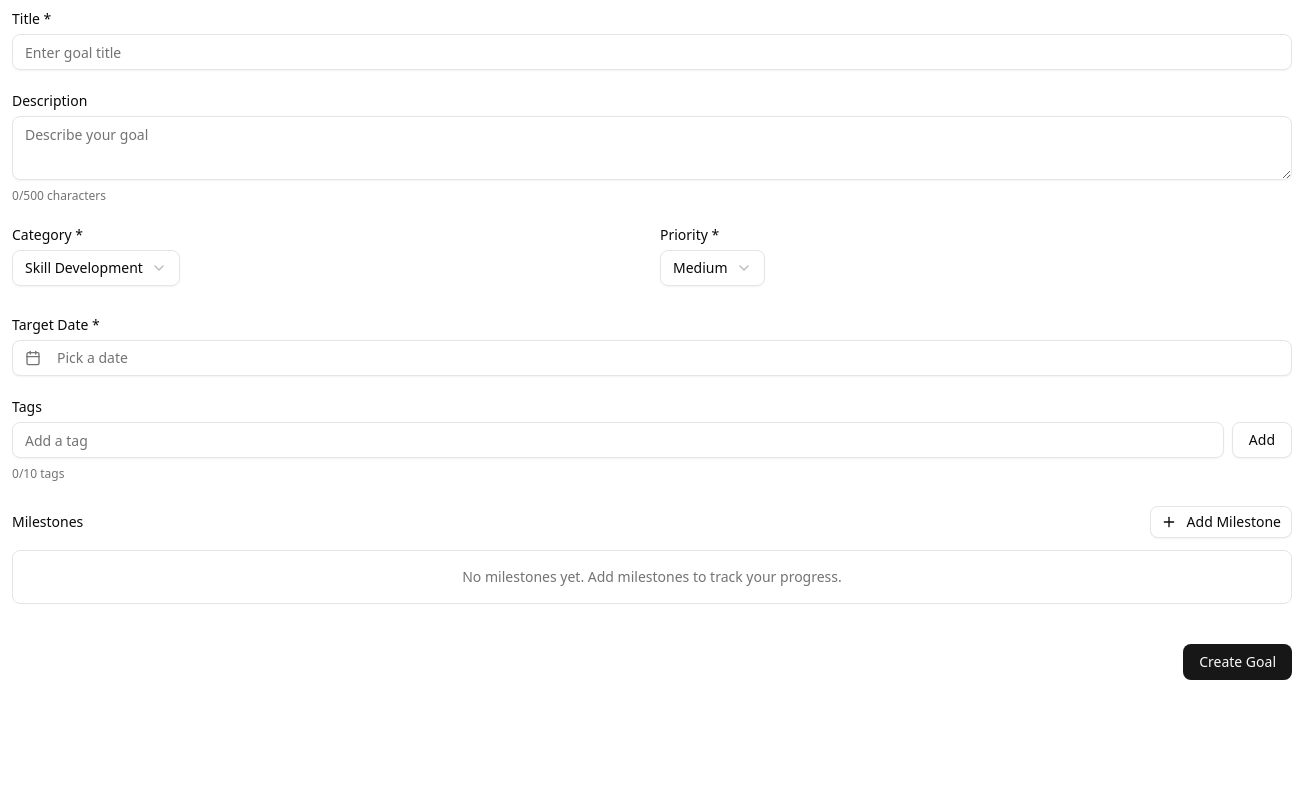
Test: GoalForm Component › Create Mode › shows validation error for short title
This screenshot has width=1304, height=812.
Step 1. Type "AB" into the field labelled "Title *" → {"x": 652, "y": 52}, box [12,34,1292,70]
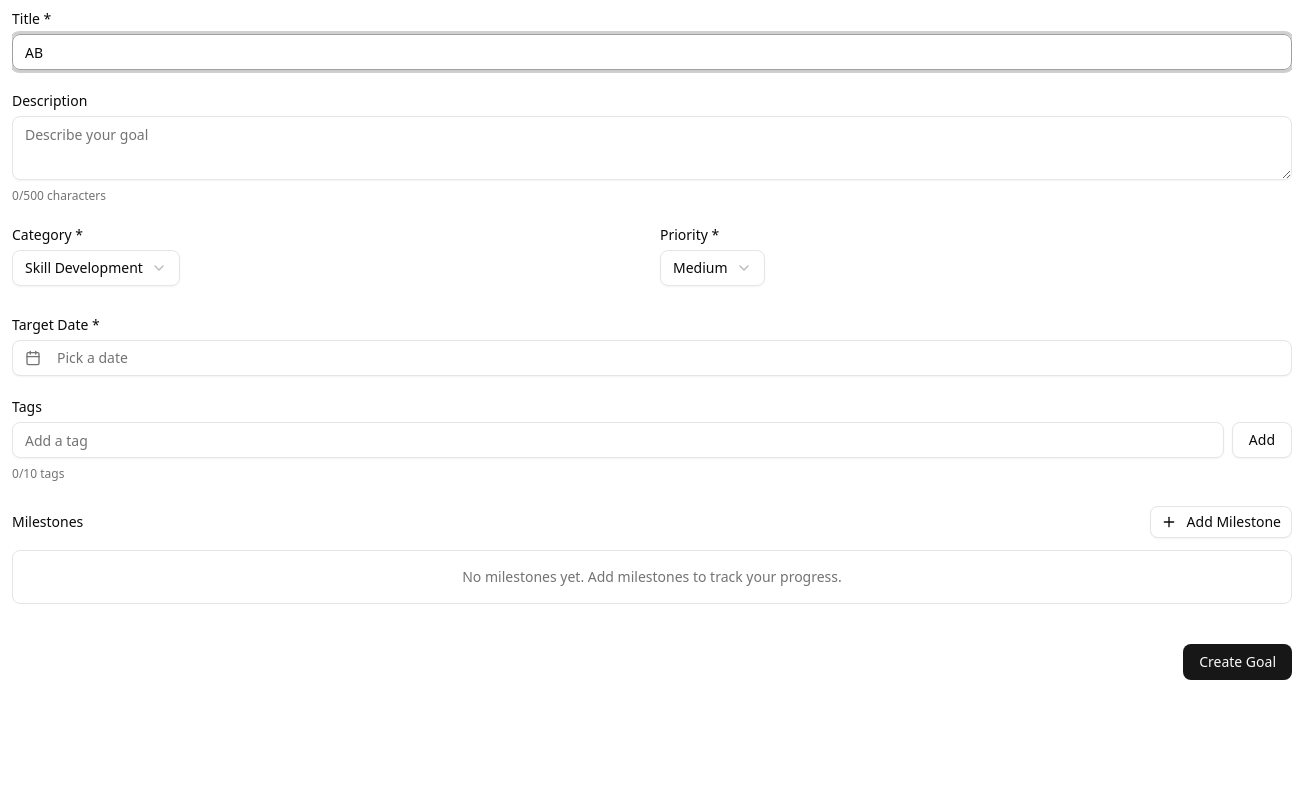
Step 2. Click the button "Create Goal" → {"x": 1238, "y": 662}, box [1183,644,1292,680]
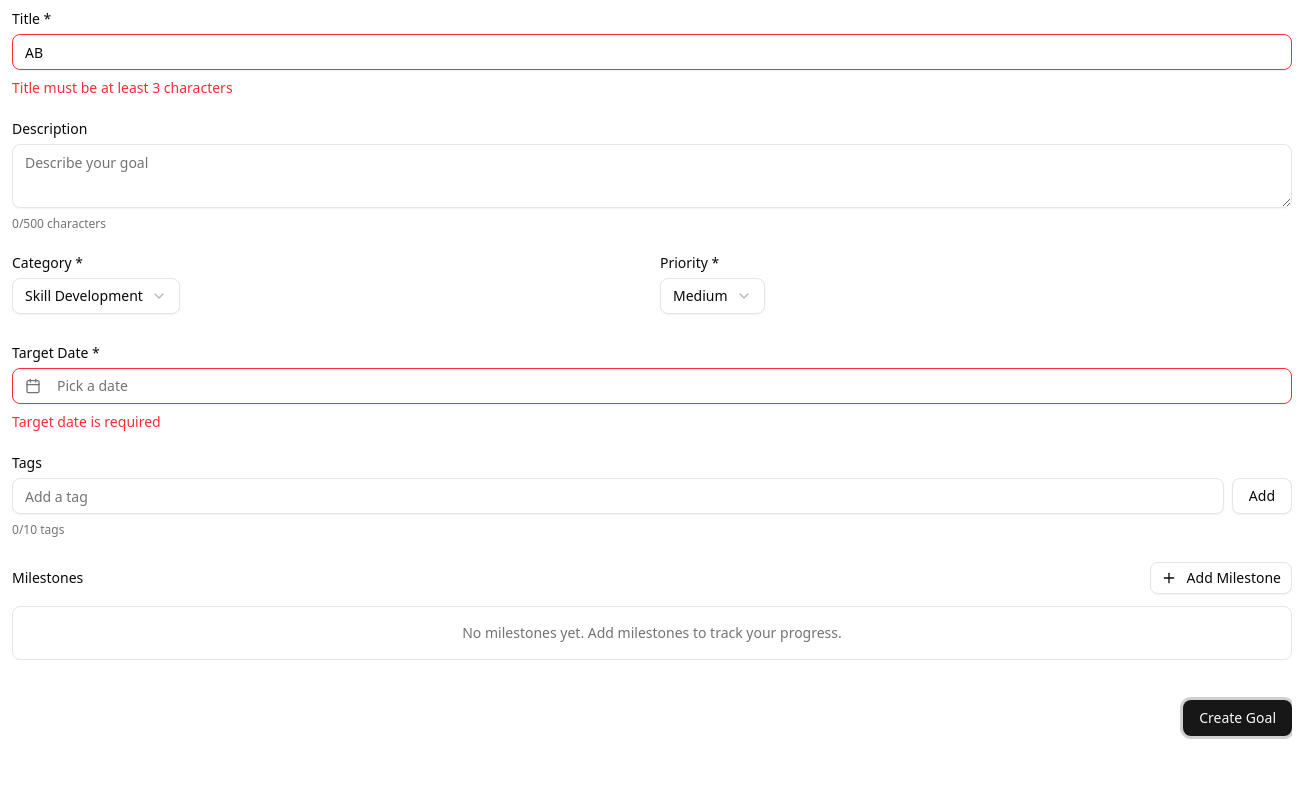
Expected: the text "Title must be at least 3 characters" is shown, [12,78,233,97]
